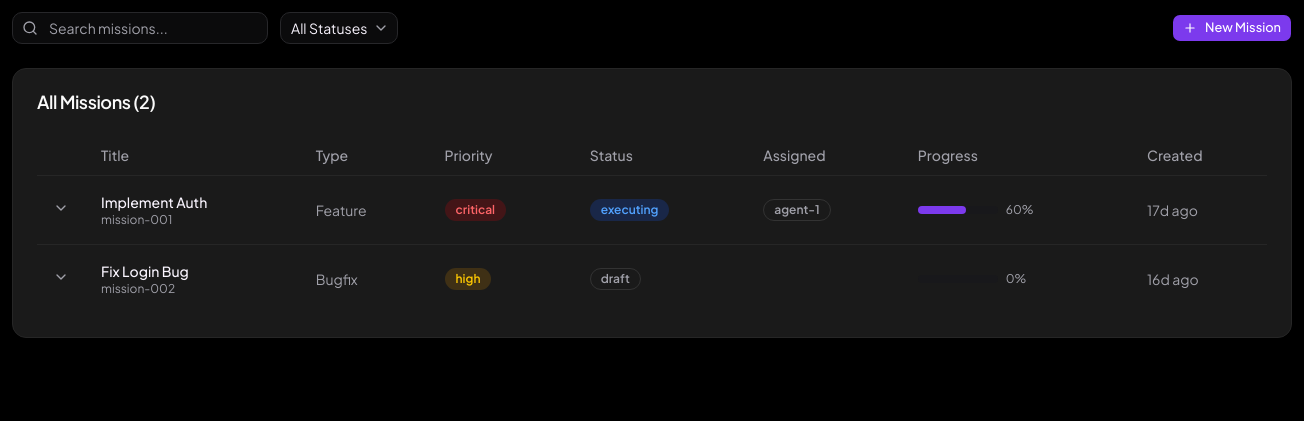
Test: MissionsPage › shows filtered empty state when search has no results
Type "nonexistent-mission" into the field with placeholder "Search missions..." at x=140, y=28, box left=12, top=12, right=268, bottom=44
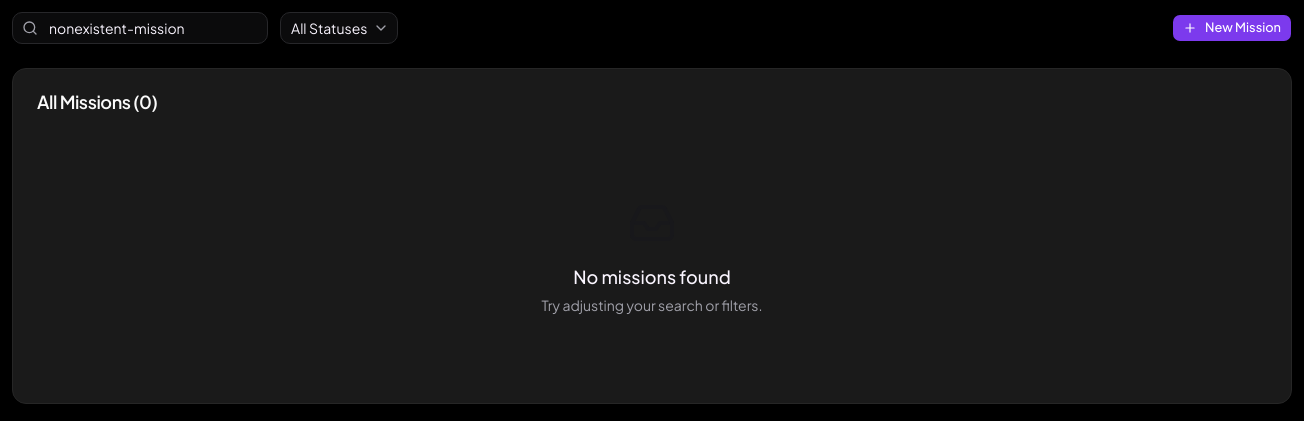
Expected: the text "No missions found" is shown, left=573, top=263, right=731, bottom=291
Expected: the text "Try adjusting your search or filters." is shown, left=542, top=295, right=762, bottom=315
